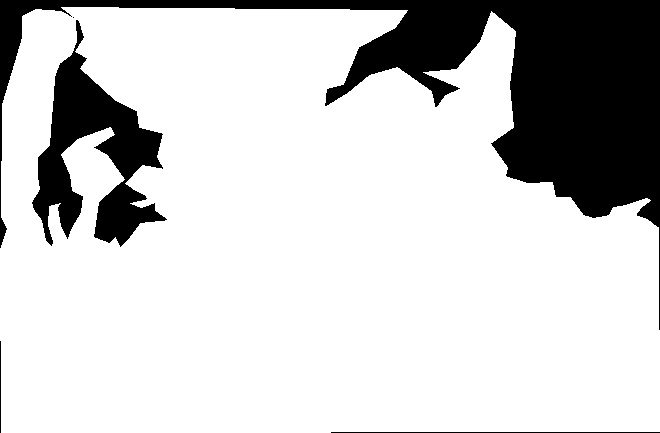Fire: (73, 6, 480, 277)
